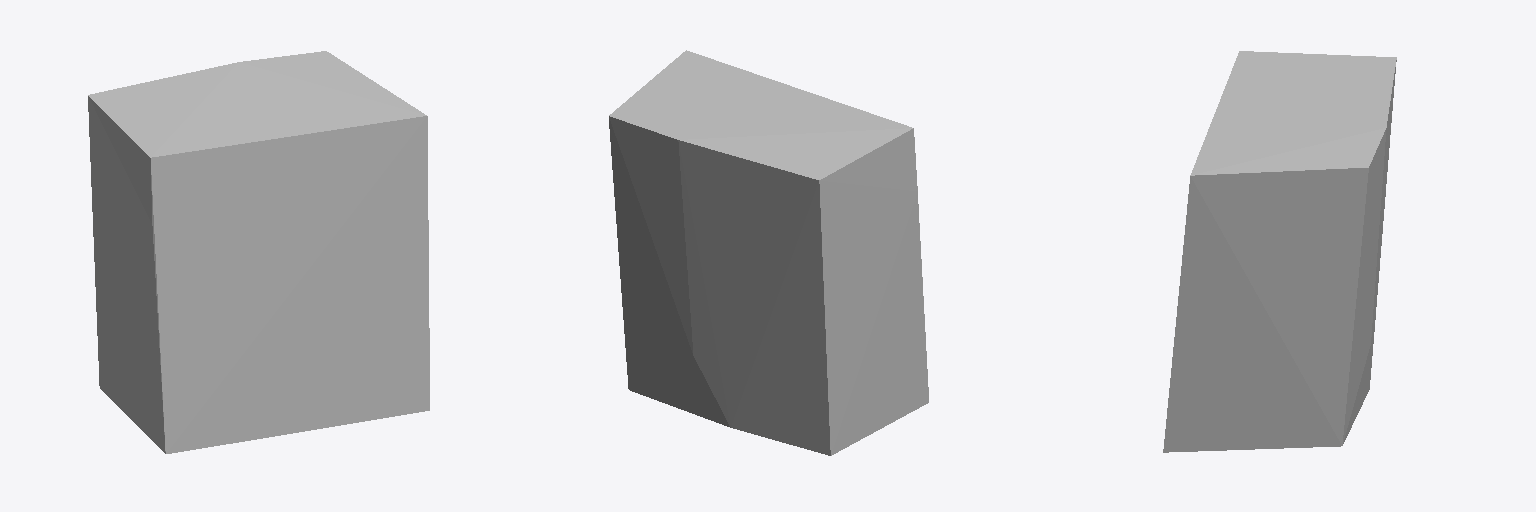
File: trash_bin_collision_58.obj
3 views of the same model, side by side, from view 1: azimuth 30°, elevation 25°; view 2: azimuth 150°, elevation 25°; view 3: azimuth 270°, elevation 25° (orthographic).
Bounding box in the file's own units: 0.0297 × 0.0327 × 0.0237.